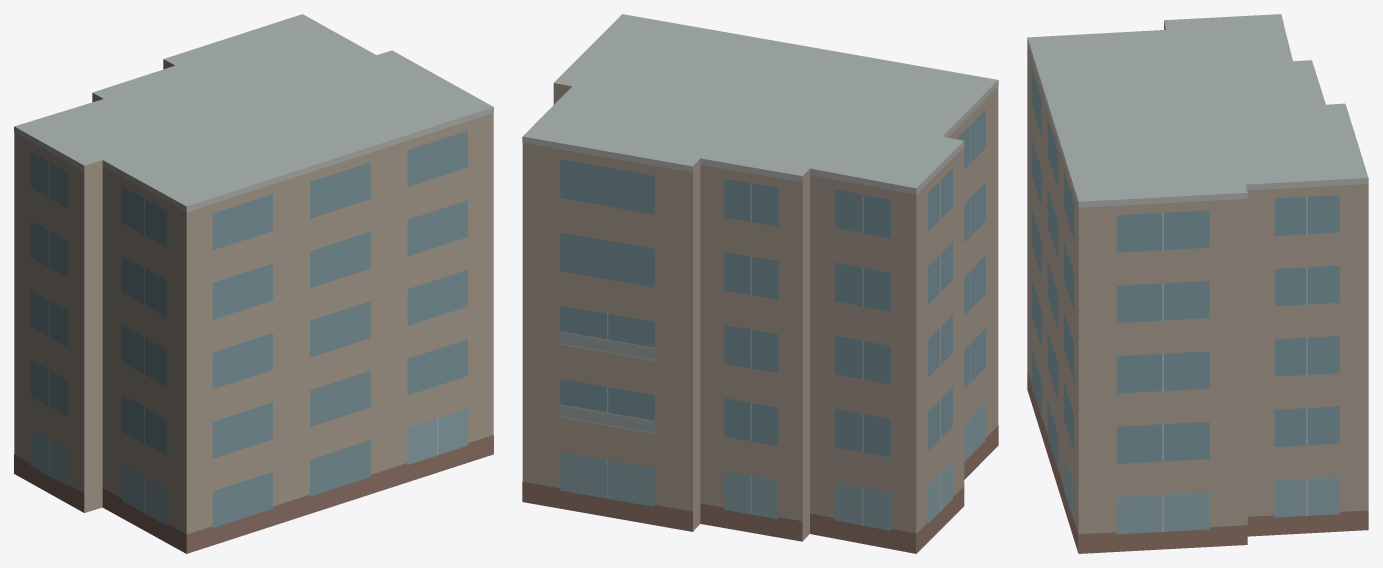
File: survey-upis-32532268.glb
3 views of the same model, side by side, from view 1: azimuth 30°, elevation 25°; view 2: azimuth 150°, elevation 25°; view 3: azimuth 270°, elevation 25° (orthographic). The views are drawn at different scales.
Parts seen in each view (by area): view 1: survey-upis-32532268.tmp; view 2: survey-upis-32532268.tmp; view 3: survey-upis-32532268.tmp.
Part boxes in pixels (left/top/right/bottom): survey-upis-32532268.tmp: left=14, top=14, right=493, bottom=553; survey-upis-32532268.tmp: left=522, top=14, right=998, bottom=553; survey-upis-32532268.tmp: left=1027, top=14, right=1368, bottom=553.
Size of the model in its own units: 16.37 by 14.3 by 12.57.
